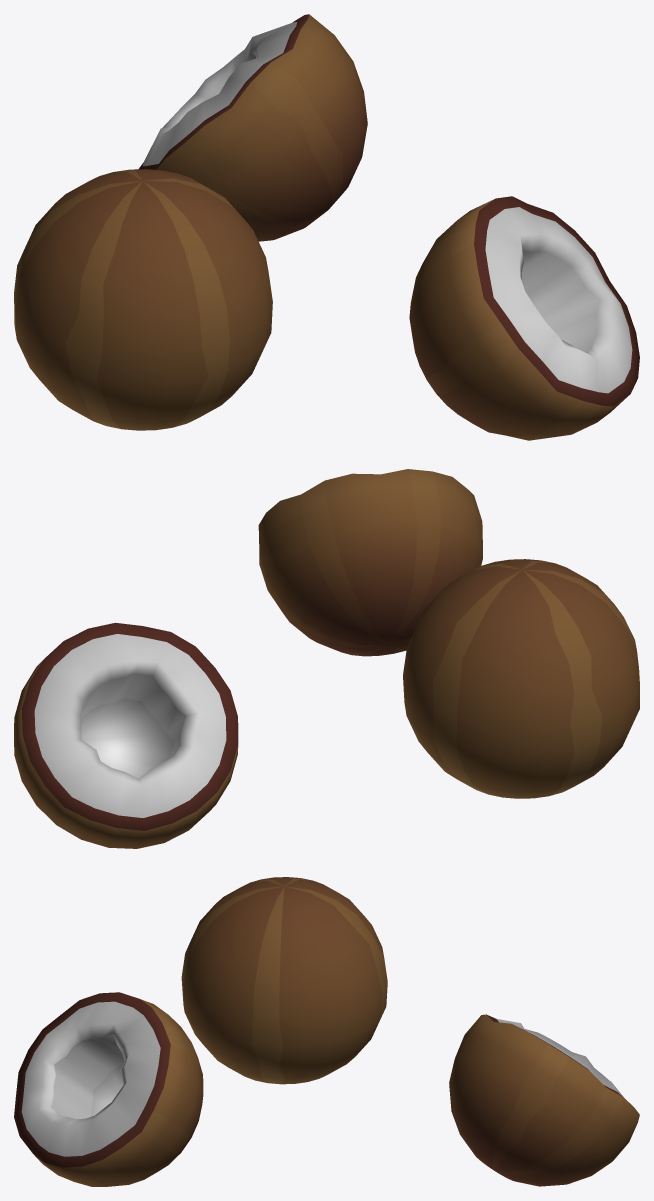
The model's file is Coconut_01.fbx.
3 renders of one model, top to bottom at view 1: azimuth 30°, elevation 25°; view 2: azimuth 150°, elevation 25°; view 3: azimuth 270°, elevation 25°, orthographic. The views are drawn at different scales.
Parts seen in each view (by area): view 1: Coconut_01; view 2: Coconut_01; view 3: Coconut_01.
Part boxes in pixels (left/top/right/bottom): Coconut_01: left=14, top=14, right=639, bottom=440; Coconut_01: left=14, top=469, right=639, bottom=848; Coconut_01: left=14, top=877, right=639, bottom=1186.
Size of the model in its own units: 109 by 49.93 by 150.
